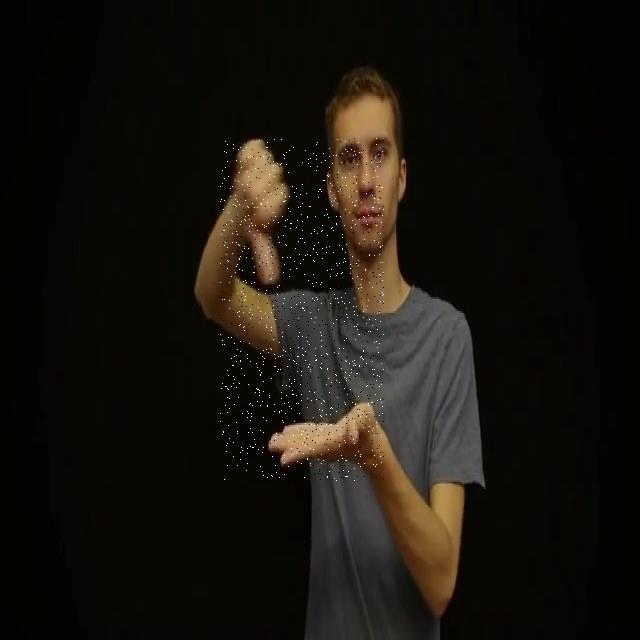sauce: (220, 138, 384, 481)
